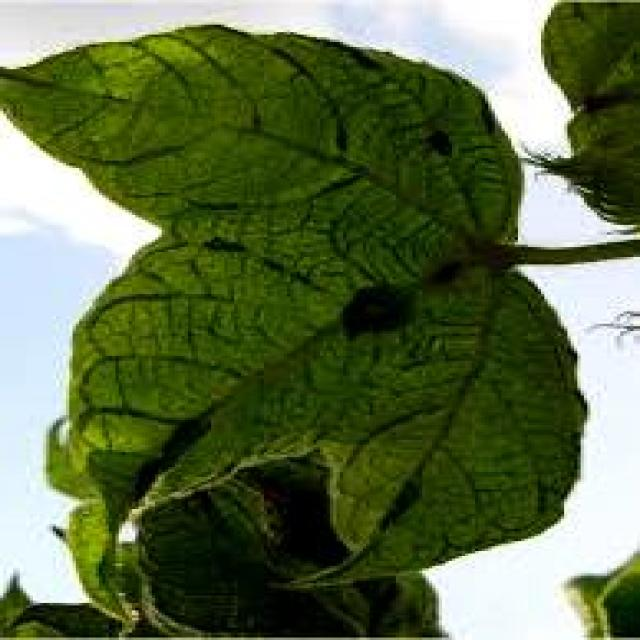Leaf Curl Virus: (76, 93, 516, 489)
